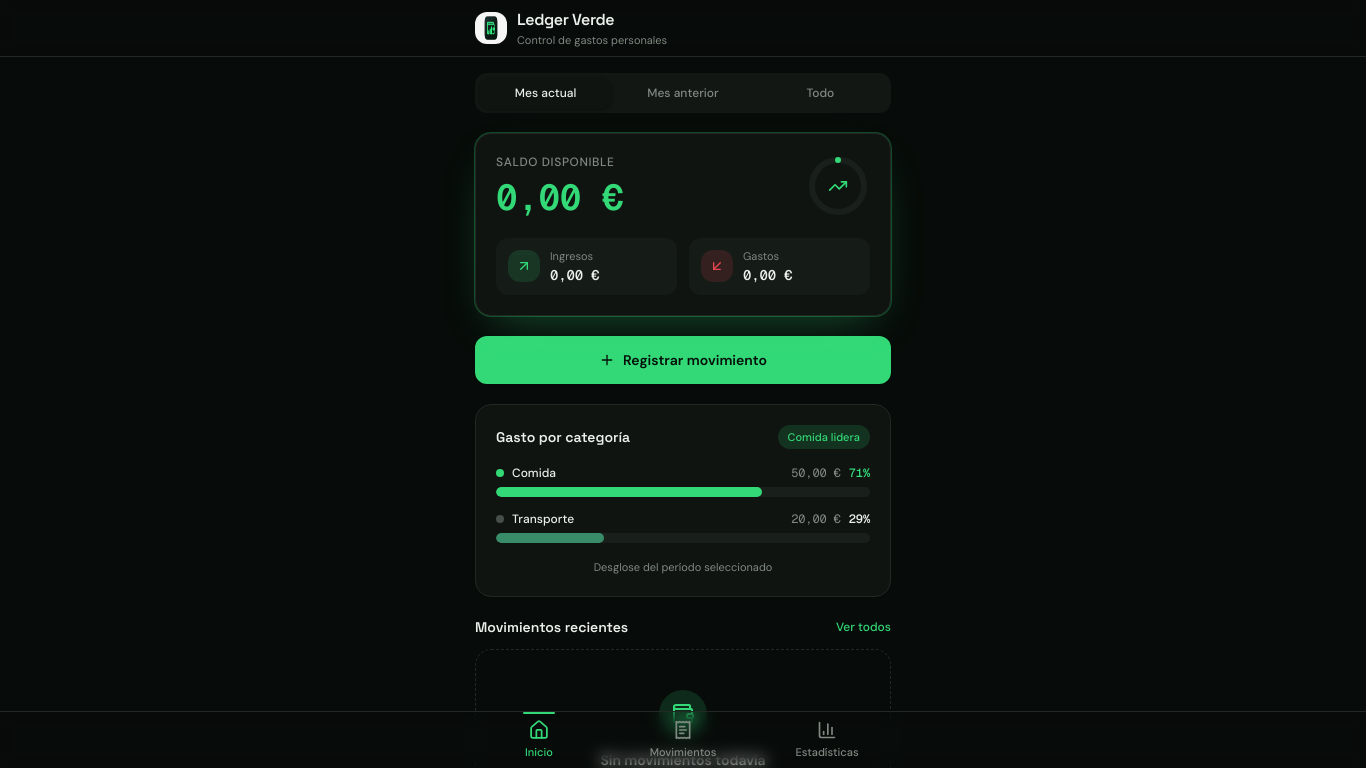
Test case: Ledger Verde — flujo principal › resalta la categoría con mayor gasto en el gráfico
Click the button with test id "nav.estadisticas.tab" at {"x": 827, "y": 740}, box [755,712,899,767]
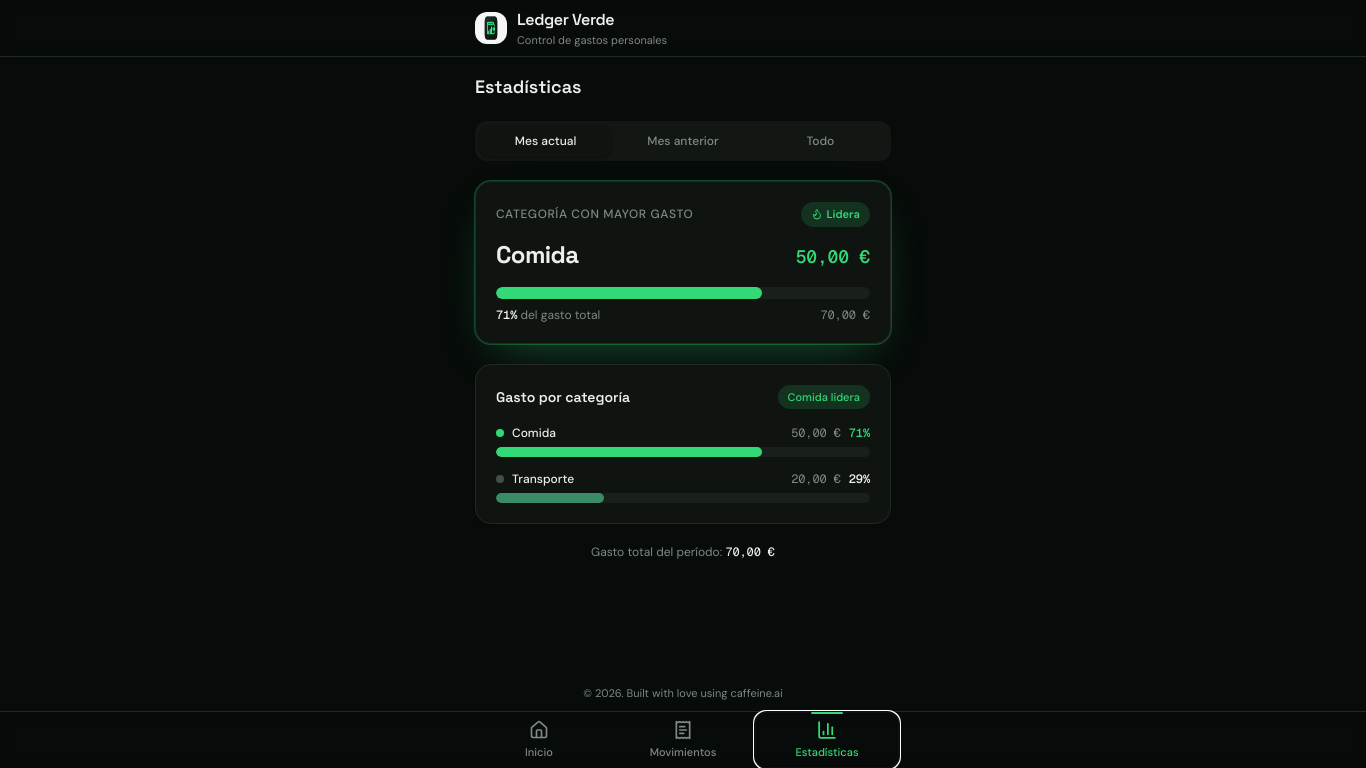
Now the text with test id "top_category.label" reads "Comida", box [496,238,579,270]
Now the text with test id "top_category.percentage" reads "71%", box [496,308,517,322]
